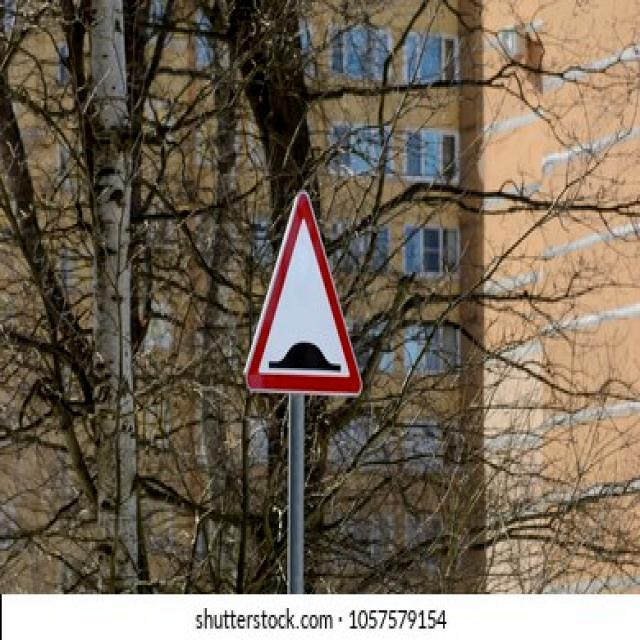Traffic sign: (239, 180, 366, 399)
